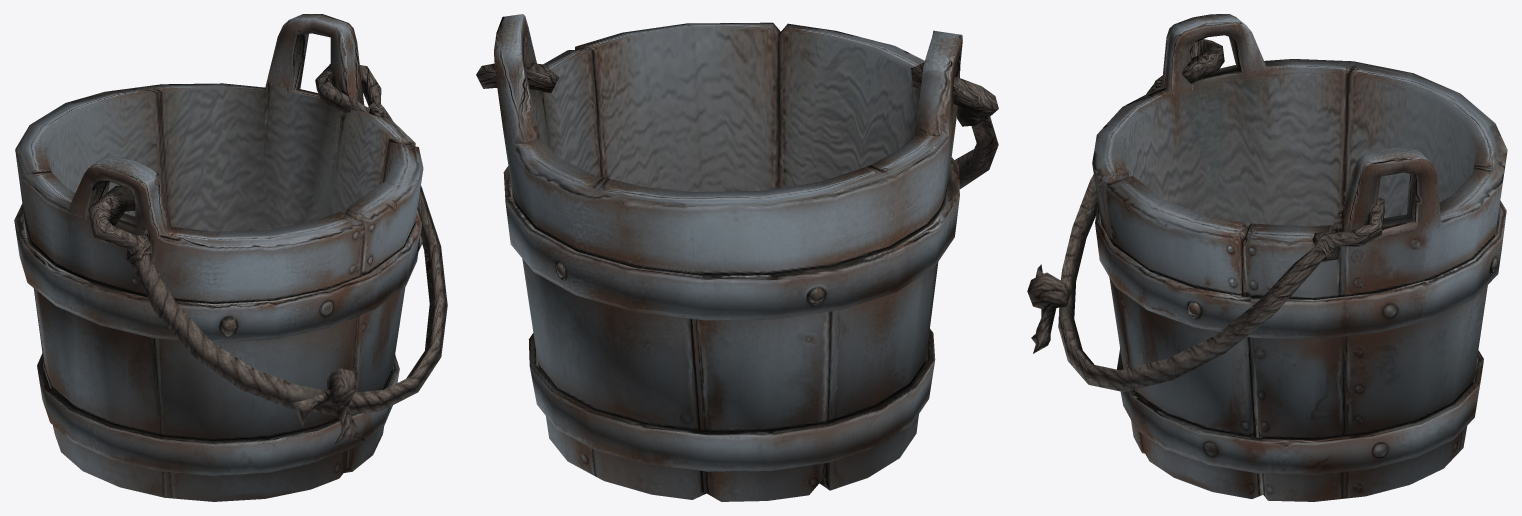
The model's file is Iron_Bucket_01.fbx.
3 renders of one model, left to right at view 1: azimuth 30°, elevation 25°; view 2: azimuth 150°, elevation 25°; view 3: azimuth 270°, elevation 25°, orthographic. The views are drawn at different scales.
Visible parts, largest first — view 1: Iron_Bucket_01; view 2: Iron_Bucket_01; view 3: Iron_Bucket_01.
Boxes of the visible parts, x1=… form: Iron_Bucket_01: x1=14, y1=14, x2=447, y2=501; Iron_Bucket_01: x1=476, y1=14, x2=998, y2=501; Iron_Bucket_01: x1=1027, y1=14, x2=1507, y2=501.
Size of the model in its own units: 90.82 by 81.05 by 99.8.
